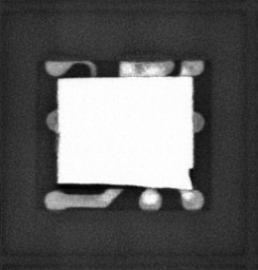DIE_BROKEN: (55, 181, 154, 190), (187, 166, 195, 185)
